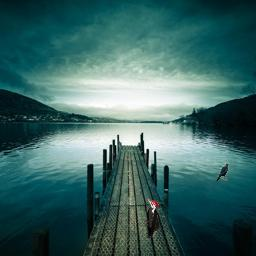Crow: (216, 163, 229, 181)
Woodpecker: (144, 198, 159, 238)
